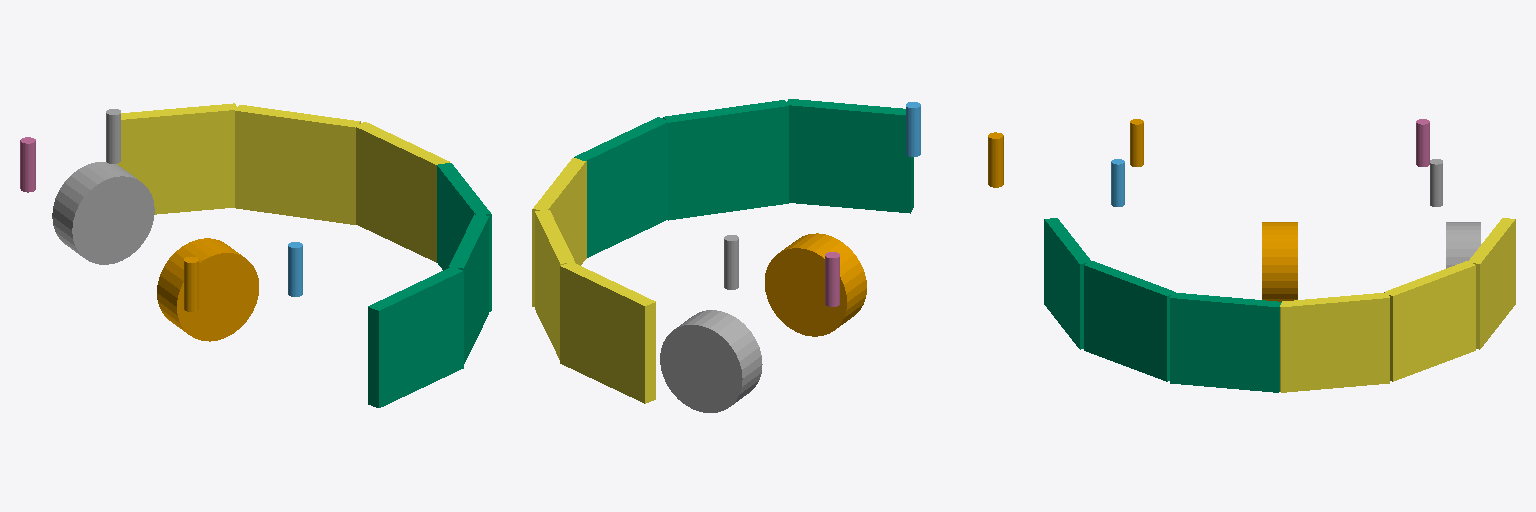
URDF robot description ([local-path]/ROS2-Project/src/my_create_map_webots/resource/MyCr):
<?xml version="1.0"?>
<robot name="[local-path]/ROS2-Project/src/my_create_map_webots/resource/MyCreate.urdf" xmlns:xacro="http://ros.org/wiki/xacro">
  <webots>
    <plugin type="my_create_map_webots.my_create_driver.MyCreateDriver"/>
  </webots>
  <link name="base_link">
  </link>

  <link name="base_footprint"/>
  <joint name="base_joint" type="fixed">
    <parent link="base_link"/>
    <child link="base_footprint"/>
    <origin xyz="0 0 -0.05" rpy="0 0 0"/>
  </joint>


  <!-- <link name="camera_left">
  </link>
  <joint name="base_link_camera_left_joint" type="fixed">
    <parent link="base_link"/>
    <child link="camera_left"/>
    <origin xyz="0.125 0.05 0.065" rpy="-1.570796 0.261799 -1.570796"/>
  </joint>

  <link name="camera_right">
  </link>
  <joint name="base_link_camera_right_joint" type="fixed">
    <parent link="base_link"/>
    <child link="camera_right"/>
    <origin xyz="0.17 -0.05 0.05" rpy="-1.570796 0.261799 -1.570796"/>
  </joint> -->


  <link name="camera_left">
    </link>
  <joint name="base_link_camera_left_joint" type="fixed">
    <parent link="base_link"/>
    <child link="camera_left"/>
    <origin xyz="0.17 0.05 0.05" rpy="0.0 0.261799 0.0"/>
    <!-- <origin xyz="0.17 0.05 0.05" rpy="0.0 0 0.0"/> -->
    </joint>

  <link name="camera_left_optical_frame">
    </link>
  <joint name="camera_left_to_optical_joint" type="fixed">
    <parent link="camera_left"/>
    <child link="camera_left_optical_frame"/>
    <origin xyz="0 0 0" rpy="-1.570796 0 -1.570796"/>
  </joint>

  <link name="camera_right">
  </link>
  <joint name="base_link_camera_right_joint" type="fixed">
    <parent link="base_link"/>
    <child link="camera_right"/>
    <origin xyz="0.17 -0.05 0.05" rpy="0.0 0.261799 0.0"/>
    <!-- <origin xyz="0.17 -0.05 0.05" rpy="0.0 0 0.0"/> -->
  </joint>

  <link name="camera_right_optical_frame">
  </link>
  <joint name="camera_right_to_optical_joint" type="fixed">
    <parent link="camera_right"/>
    <child link="camera_right_optical_frame"/>
    <origin xyz="0 0 0" rpy="-1.570796 0 -1.570796"/>
    <!-- <origin xyz="0 0 0" rpy="-1.570796 0 -1.570796"/> -->
  </joint>


  <link name="stand_left_back_1">
    <visual>
      <geometry>
        <cylinder radius="0.005" length="0.035"/>
      </geometry>
    </visual>
    <collision>
      <geometry>
        <cylinder radius="0.005" length="0.035"/>
      </geometry>
    </collision>
  </link>
  <joint name="base_link_stand_left_back_1_joint" type="fixed">
    <parent link="base_link"/>
    <child link="stand_left_back_1"/>
    <origin xyz="-0.08 0.106 0.05" rpy="0 0 0"/>
  </joint>
  <link name="stand_left_front_1">
    <visual>
      <geometry>
        <cylinder radius="0.005" length="0.035"/>
      </geometry>
    </visual>
    <collision>
      <geometry>
        <cylinder radius="0.005" length="0.035"/>
      </geometry>
    </collision>
  </link>
  <joint name="base_link_stand_left_front_1_joint" type="fixed">
    <parent link="base_link"/>
    <child link="stand_left_front_1"/>
    <origin xyz="-0.01 0.116 0.05" rpy="0 0 0"/>
  </joint>
  <link name="stand_right_back_1">
    <visual>
      <geometry>
        <cylinder radius="0.005" length="0.035"/>
      </geometry>
    </visual>
    <collision>
      <geometry>
        <cylinder radius="0.005" length="0.035"/>
      </geometry>
    </collision>
  </link>
  <joint name="base_link_stand_right_back_1_joint" type="fixed">
    <parent link="base_link"/>
    <child link="stand_right_back_1"/>
    <origin xyz="-0.08 -0.106 0.05" rpy="0 0 0"/>
  </joint>
  <link name="stand_right_front_1">
    <visual>
      <geometry>
        <cylinder radius="0.005" length="0.035"/>
      </geometry>
    </visual>
    <collision>
      <geometry>
        <cylinder radius="0.005" length="0.035"/>
      </geometry>
    </collision>
  </link>
  <joint name="base_link_stand_right_front_1_joint" type="fixed">
    <parent link="base_link"/>
    <child link="stand_right_front_1"/>
    <origin xyz="-0.01 -0.12 0.05" rpy="0 0 0"/>
  </joint>
  <link name="plate_1">
  </link>
  <joint name="base_link_plate_1_joint" type="fixed">
    <parent link="base_link"/>
    <child link="plate_1"/>
    <origin xyz="0 0 0.07" rpy="0 0 0"/>
  </joint>
  <link name="cliff_left">
  </link>
  <joint name="base_link_cliff_left_joint" type="fixed">
    <parent link="base_link"/>
    <child link="cliff_left"/>
    <origin xyz="0.07 0.15 0" rpy="-1.876967 1.570787 1.264616"/>
  </joint>
  <link name="cliff_front_left">
  </link>
  <joint name="base_link_cliff_front_left_joint" type="fixed">
    <parent link="base_link"/>
    <child link="cliff_front_left"/>
    <origin xyz="0.15 0.04 0" rpy="-1.876967 1.570787 1.264616"/>
  </joint>
  <link name="cliff_front_right">
  </link>
  <joint name="base_link_cliff_front_right_joint" type="fixed">
    <parent link="base_link"/>
    <child link="cliff_front_right"/>
    <origin xyz="0.15 -0.04 0" rpy="-1.876967 1.570787 1.264616"/>
  </joint>
  <link name="cliff_right">
  </link>
  <joint name="base_link_cliff_right_joint" type="fixed">
    <parent link="base_link"/>
    <child link="cliff_right"/>
    <origin xyz="0.07 -0.15 0" rpy="-1.876967 1.570787 1.264616"/>
  </joint>
  <link name="led_step">
  </link>
  <joint name="base_link_led_step_joint" type="fixed">
    <parent link="base_link"/>
    <child link="led_step"/>
    <origin xyz="0.0189 -0.0581 0.0349" rpy="0 0 0"/>
  </joint>
  <link name="led_play">
  </link>
  <joint name="base_link_led_play_joint" type="fixed">
    <parent link="base_link"/>
    <child link="led_play"/>
    <origin xyz="0.0193 -0.0132 0.0349" rpy="0 0 0"/>
  </joint>
  <link name="led_on">
  </link>
  <joint name="base_link_led_on_joint" type="fixed">
    <parent link="base_link"/>
    <child link="led_on"/>
    <origin xyz="0.0202 0.0617 0.0349" rpy="0 0 0"/>
  </joint>
  <link name="bumper_right">
    <visual>
      <origin xyz="-0.078042 0 -0.148208" rpy="0 0.523599 0"/>
      <geometry>
        <box size="0.082811 0.07 0.01"/>
      </geometry>
    </visual>
    <collision>
      <origin xyz="-0.078042 0 -0.148208" rpy="0 0.523599 0"/>
      <geometry>
        <box size="0.082811 0.07 0.01"/>
      </geometry>
    </collision>
    <visual>
      <origin xyz="0 0 -0.1675" rpy="0 0 0"/>
      <geometry>
        <box size="0.082811 0.07 0.01"/>
      </geometry>
    </visual>
    <collision>
      <origin xyz="0 0 -0.1675" rpy="0 0 0"/>
      <geometry>
        <box size="0.082811 0.07 0.01"/>
      </geometry>
    </collision>
    <visual>
      <origin xyz="0.078042 0 -0.148208" rpy="0 -0.523599 0"/>
      <geometry>
        <box size="0.082811 0.07 0.01"/>
      </geometry>
    </visual>
    <collision>
      <origin xyz="0.078042 0 -0.148208" rpy="0 -0.523599 0"/>
      <geometry>
        <box size="0.082811 0.07 0.01"/>
      </geometry>
    </collision>
  </link>
  <joint name="base_link_bumper_right_joint" type="fixed">
    <parent link="base_link"/>
    <child link="bumper_right"/>
    <origin xyz="0 0 -0.000003" rpy="1.570792 0.000011 -2.297729"/>
  </joint>
  <link name="bumper_left">
    <visual>
      <origin xyz="-0.078042 0 -0.148208" rpy="0 0.523599 0"/>
      <geometry>
        <box size="0.082811 0.07 0.01"/>
      </geometry>
    </visual>
    <collision>
      <origin xyz="-0.078042 0 -0.148208" rpy="0 0.523599 0"/>
      <geometry>
        <box size="0.082811 0.07 0.01"/>
      </geometry>
    </collision>
    <visual>
      <origin xyz="0 0 -0.1675" rpy="0 0 0"/>
      <geometry>
        <box size="0.082811 0.07 0.01"/>
      </geometry>
    </visual>
    <collision>
      <origin xyz="0 0 -0.1675" rpy="0 0 0"/>
      <geometry>
        <box size="0.082811 0.07 0.01"/>
      </geometry>
    </collision>
    <visual>
      <origin xyz="0.078042 0 -0.148208" rpy="0 -0.523599 0"/>
      <geometry>
        <box size="0.082811 0.07 0.01"/>
      </geometry>
    </visual>
    <collision>
      <origin xyz="0.078042 0 -0.148208" rpy="0 -0.523599 0"/>
      <geometry>
        <box size="0.082811 0.07 0.01"/>
      </geometry>
    </collision>
  </link>
  <joint name="base_link_bumper_left_joint" type="fixed">
    <parent link="base_link"/>
    <child link="bumper_left"/>
    <origin xyz="0 0 -0.000003" rpy="1.570806 0.000006 -0.843867"/>
  </joint>
  <link name="receiver">
  </link>
  <joint name="base_link_receiver_joint" type="fixed">
    <parent link="base_link"/>
    <child link="receiver"/>
    <origin xyz="0.152 0 0.037" rpy="0 0 0"/>
  </joint>
  <link name="front wheel">
  </link>
  <joint name="base_link_front wheel_joint" type="fixed">
    <parent link="base_link"/>
    <child link="front wheel"/>
    <origin xyz="0.129 0 -0.035" rpy="0 0 0"/>
  </joint>
  <link name="rear wheel">
  </link>
  <joint name="base_link_rear wheel_joint" type="fixed">
    <parent link="base_link"/>
    <child link="rear wheel"/>
    <origin xyz="-0.1315 0 -0.0305" rpy="0 0 0"/>
  </joint>
  <joint name="left wheel motor" type="continuous">
    <parent link="base_link"/>
    <child link="left wheel"/>
    <axis xyz="0 1 0"/>
    <limit effort="10" velocity="16.129"/>
    <origin xyz="-0.0062 0 -0.014" rpy="0 -0.000002 0"/>
  </joint>
  <link name="left wheel">
    <visual>
      <origin xyz="0 0.1359 0" rpy="1.5708 0 0"/>
      <geometry>
        <cylinder radius="0.031" length="0.026"/>
      </geometry>
    </visual>
    <collision>
      <origin xyz="0 0.1359 0" rpy="1.5708 0 0"/>
      <geometry>
        <cylinder radius="0.031" length="0.026"/>
      </geometry>
    </collision>
  </link>
  <joint name="right wheel motor" type="continuous">
    <parent link="base_link"/>
    <child link="right wheel"/>
    <axis xyz="0 1 0"/>
    <limit effort="10" velocity="16.129"/>
    <origin xyz="-0.0062 0.1359 -0.014" rpy="0 -0.000002 0"/>
  </joint>
  <link name="right wheel">
    <visual>
      <origin xyz="0 -0.1359 0" rpy="1.5708 0 0"/>
      <geometry>
        <cylinder radius="0.031" length="0.026"/>
      </geometry>
    </visual>
    <collision>
      <origin xyz="0 -0.1359 0" rpy="1.5708 0 0"/>
      <geometry>
        <cylinder radius="0.031" length="0.026"/>
      </geometry>
    </collision>
  </link>
</robot>

--- What the picture shows (computed from the rendered views, not written in the file) ---
3 views of the same robot in one strip: view 1: azimuth 30°, elevation 25°; view 2: azimuth 150°, elevation 25°; view 3: azimuth 270°, elevation 25° (orthographic).
Robot: [local-path]/ROS2-Project/src/my_create_map_webots/resource/MyCr — 25 links, 24 joints (2 continuous, 22 fixed); root link base_link; default pose: every joint at zero.
Links seen in each view (by area): view 1: bumper_left, bumper_right, left wheel, right wheel, stand_left_back_1, stand_left_front_1, stand_right_back_1, stand_right_front_1; view 2: bumper_right, bumper_left, left wheel, right wheel, stand_right_back_1, stand_left_front_1, stand_right_front_1, stand_left_back_1; view 3: bumper_right, bumper_left, right wheel, left wheel, stand_left_back_1, stand_right_back_1, stand_right_front_1, stand_left_front_1.
Boxes of the visible links, x1,y1,x2,y2 form: bumper_left: (117, 103, 449, 262); bumper_right: (368, 163, 491, 407); left wheel: (52, 162, 154, 264); right wheel: (157, 238, 258, 341); stand_left_back_1: (20, 137, 35, 192); stand_left_front_1: (106, 109, 120, 163); stand_right_back_1: (184, 257, 198, 311); stand_right_front_1: (288, 242, 302, 296); bumper_right: (574, 99, 913, 257); bumper_left: (532, 158, 655, 403); left wheel: (660, 310, 762, 412); right wheel: (765, 233, 866, 336); stand_right_back_1: (988, 132, 1003, 187); stand_left_front_1: (724, 235, 738, 289); stand_right_front_1: (906, 102, 920, 156); stand_left_back_1: (825, 252, 839, 306); bumper_right: (1044, 218, 1281, 392); bumper_left: (1280, 218, 1515, 392); right wheel: (1262, 222, 1297, 301); left wheel: (1446, 222, 1480, 268); stand_left_back_1: (1416, 119, 1429, 166); stand_right_back_1: (1130, 119, 1143, 166); stand_right_front_1: (1111, 159, 1124, 206); stand_left_front_1: (1430, 159, 1442, 206).
Bounding box of the posed robot: 0.2609 × 0.3492 × 0.1125 m (x, y, z).
Geometry: primitives only (box / cylinder / sphere), no mesh files.
